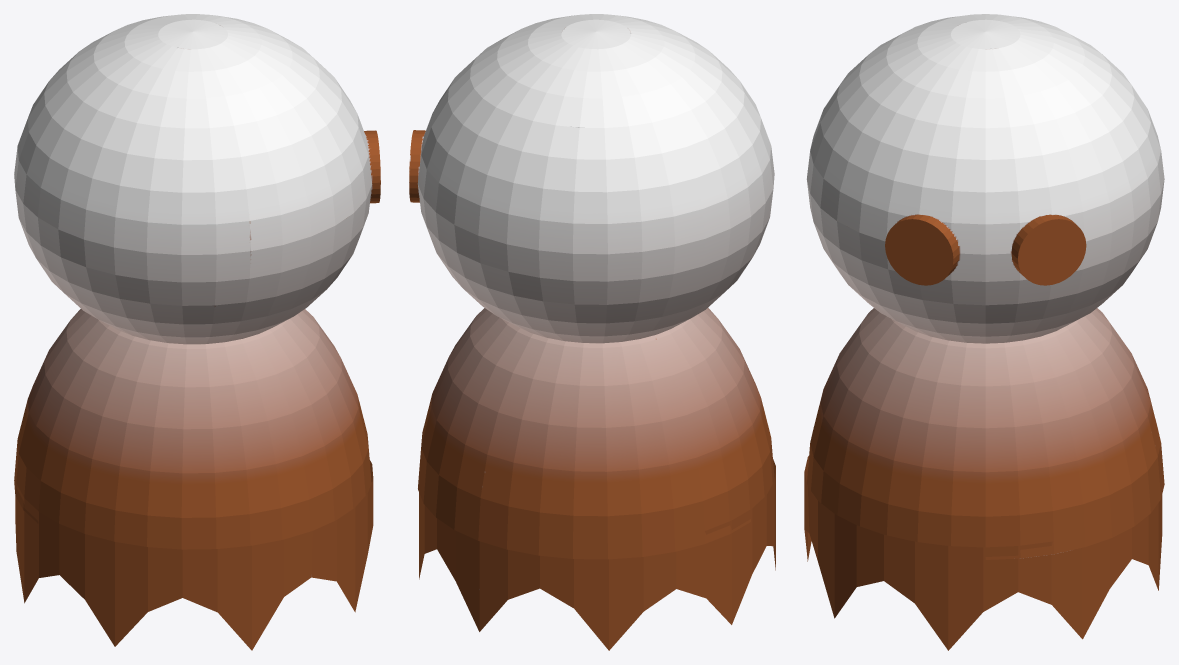
Rendered from Octopus.fbx.
The picture shows the model from 3 angles, left to right: view 1: azimuth 30°, elevation 25°; view 2: azimuth 150°, elevation 25°; view 3: azimuth 270°, elevation 25°; orthographic projection.
Visible parts, largest first — view 1: Body; view 2: Body; view 3: Body.
Boxes of the visible parts, x1=… form: Body: x1=14, y1=14, x2=380, y2=650; Body: x1=409, y1=14, x2=775, y2=650; Body: x1=804, y1=14, x2=1164, y2=650.
Size of the model in its own units: 206 by 336 by 201.
Materials: 2 (2 with a texture image).
